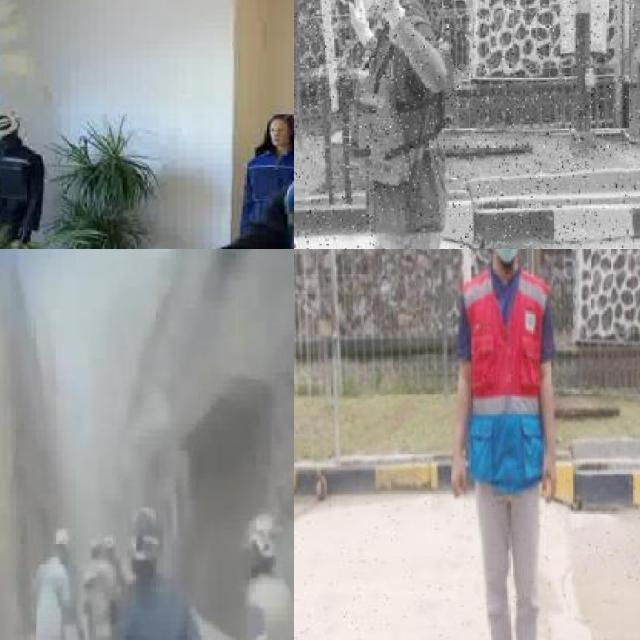apron: (343, 0, 374, 49), (369, 0, 406, 31)
